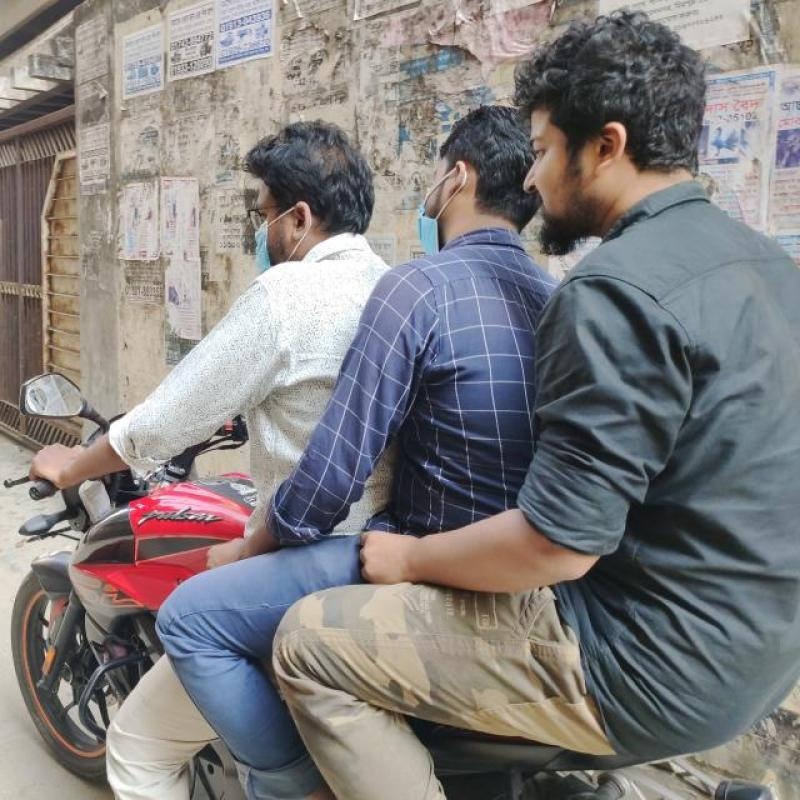nohelmet: (540, 13, 706, 212), (208, 116, 362, 258), (420, 77, 528, 263)
